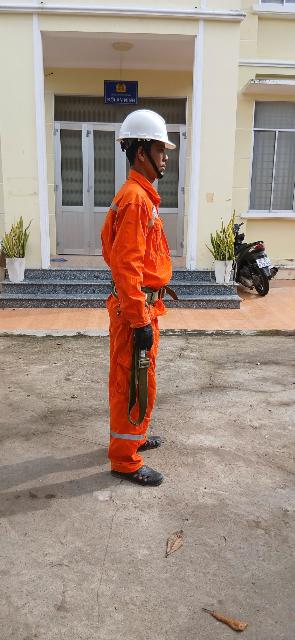gloves: (124, 316, 164, 351)
harness: (98, 269, 179, 310)
helmet: (111, 109, 181, 153)
shoes: (93, 453, 173, 491), (123, 430, 171, 452)
